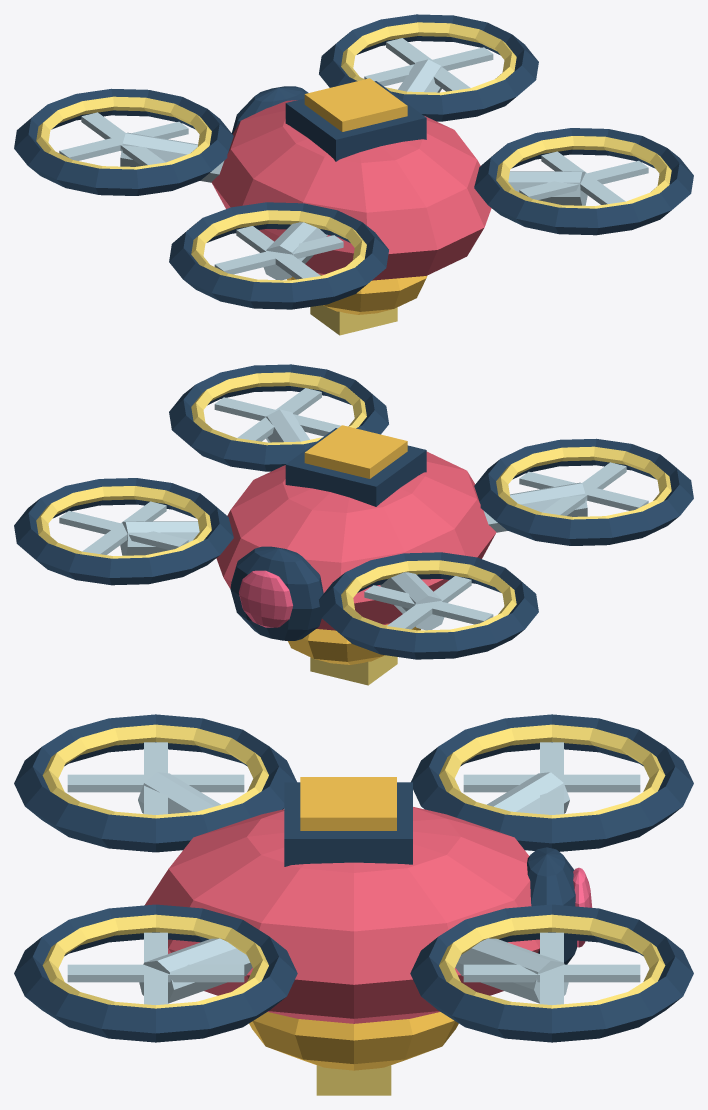
File: attack_drone.gltf
The picture shows the model from 3 angles, top to bottom: view 1: azimuth 30°, elevation 25°; view 2: azimuth 150°, elevation 25°; view 3: azimuth 270°, elevation 25°; orthographic projection. The views are drawn at different scales.
Size of the model in its own units: 1.37 by 0.5775 by 1.27.
